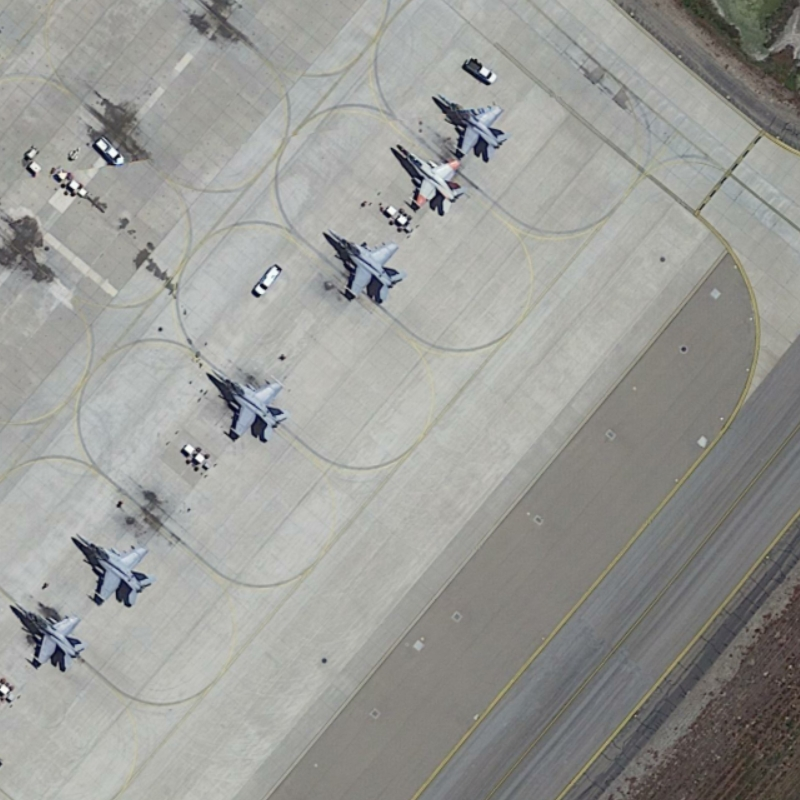A16: (321, 225, 408, 312), (204, 363, 290, 450), (3, 595, 90, 675), (71, 530, 156, 611), (390, 139, 471, 222), (432, 88, 515, 167)
